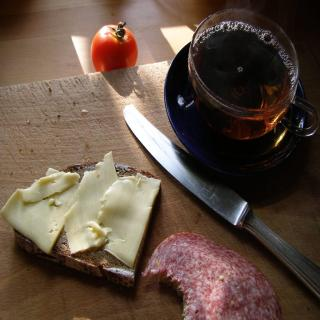tomato: (90, 19, 142, 75)
